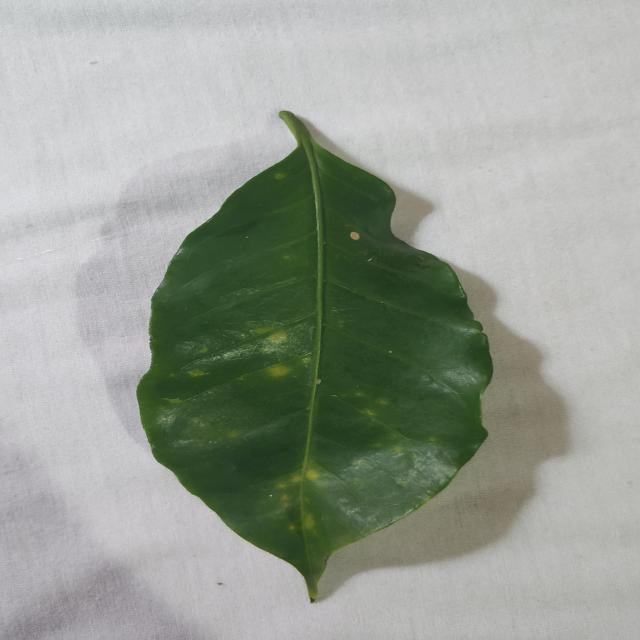Enfermedad-Roya: (135, 111, 494, 603)
